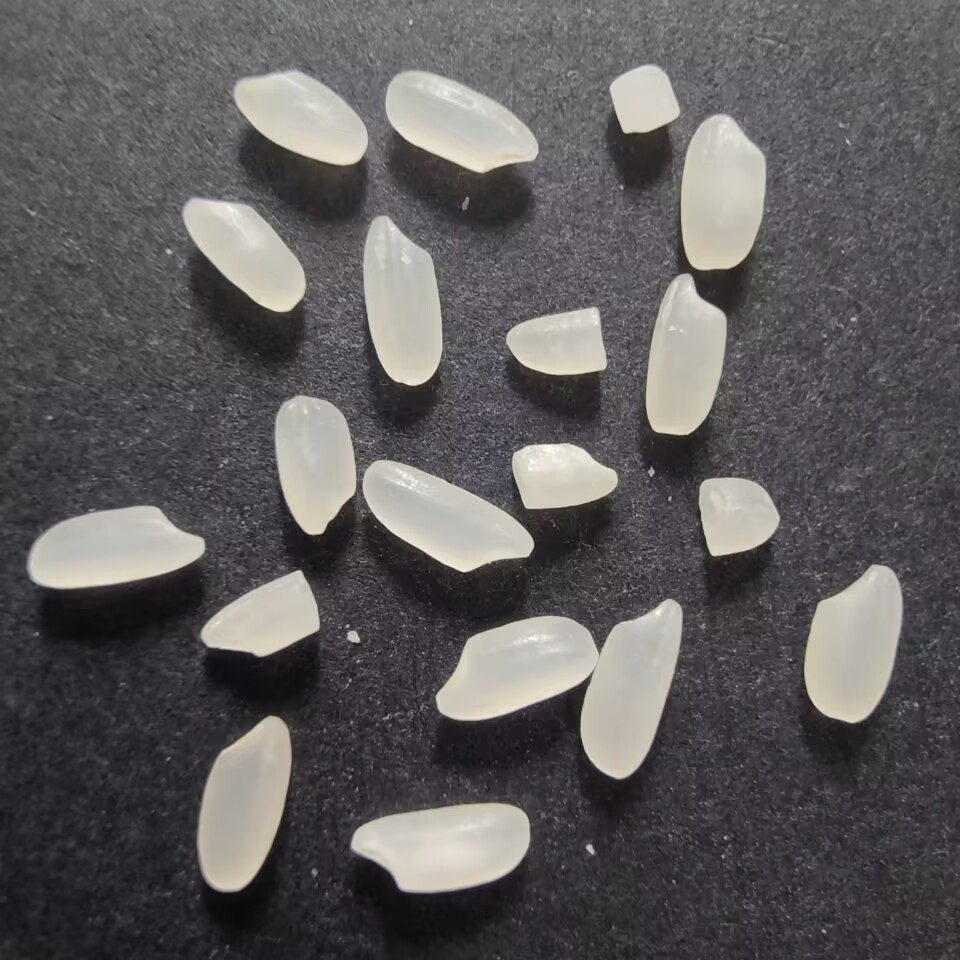broken: (193, 565, 327, 664), (503, 437, 625, 516), (690, 469, 786, 566), (502, 301, 614, 381), (605, 58, 685, 137)
rice: (359, 453, 540, 580), (580, 594, 691, 784), (429, 608, 600, 728), (346, 795, 536, 898), (381, 61, 548, 177), (194, 713, 295, 899), (23, 499, 209, 595), (802, 555, 904, 727), (638, 270, 736, 445), (175, 193, 312, 318), (358, 210, 452, 391), (676, 109, 775, 274), (227, 66, 375, 169), (267, 391, 360, 542)
